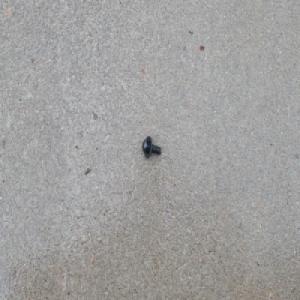BoltWasher: (141, 135, 161, 159)
